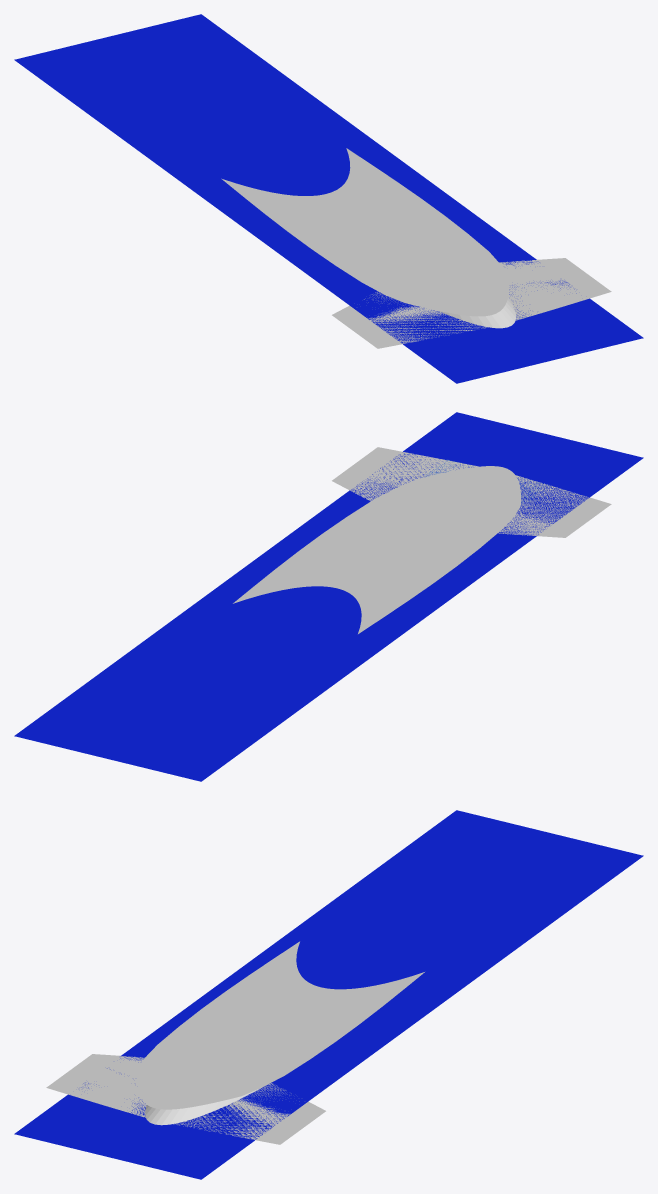
File: pref_fx_Cramorant_spell02B_bullet_04_lv2.fbx
The picture shows the model from 3 angles, top to bottom: view 1: azimuth 30°, elevation 25°; view 2: azimuth 150°, elevation 25°; view 3: azimuth 330°, elevation 25°; orthographic projection.
Visible parts, largest first — view 1: Glow_an_xingneng, UV_add, UV_add_01; view 2: Glow_an_xingneng, UV_add, UV_add_01; view 3: Glow_an_xingneng, UV_add, UV_add_01.
Part boxes in pixels (x1,y1,x2,y2): Glow_an_xingneng: [14, 14, 643, 383]; UV_add: [221, 148, 509, 316]; UV_add_01: [332, 258, 611, 348]; Glow_an_xingneng: [14, 412, 643, 781]; UV_add: [233, 466, 520, 633]; UV_add_01: [332, 447, 611, 537]; Glow_an_xingneng: [14, 810, 643, 1179]; UV_add: [137, 941, 424, 1109]; UV_add_01: [46, 1054, 325, 1144].
Bounding box in the file's own units: 1.61 × 0.1068 × 5.26.
